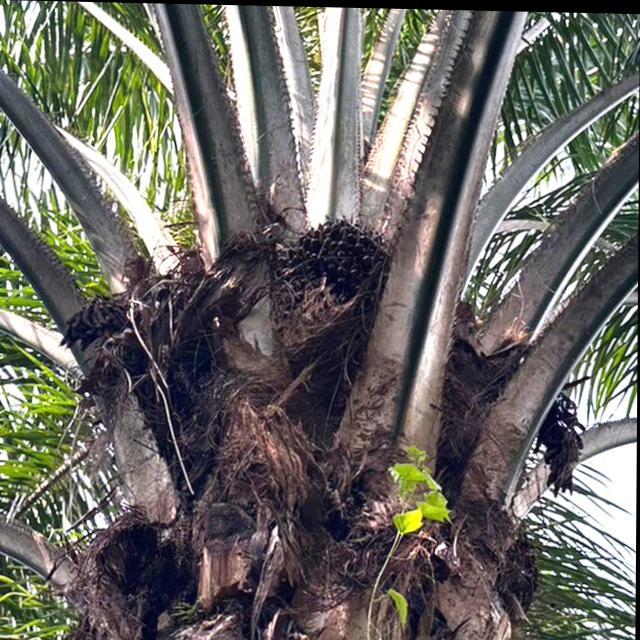almost: (261, 205, 406, 406)
